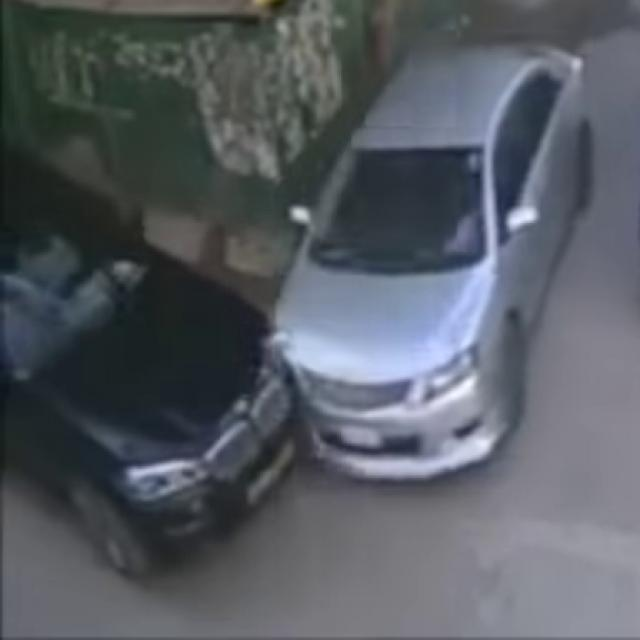accident: (11, 183, 538, 561)
